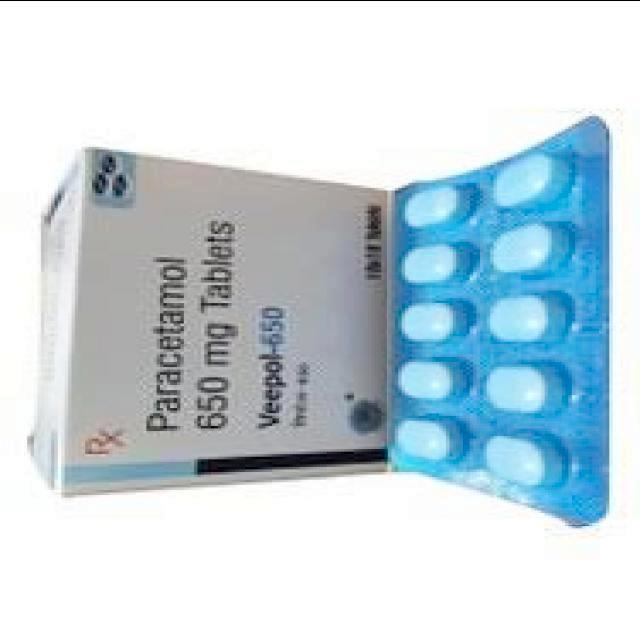authentic: (12, 138, 392, 502), (387, 112, 621, 524)
